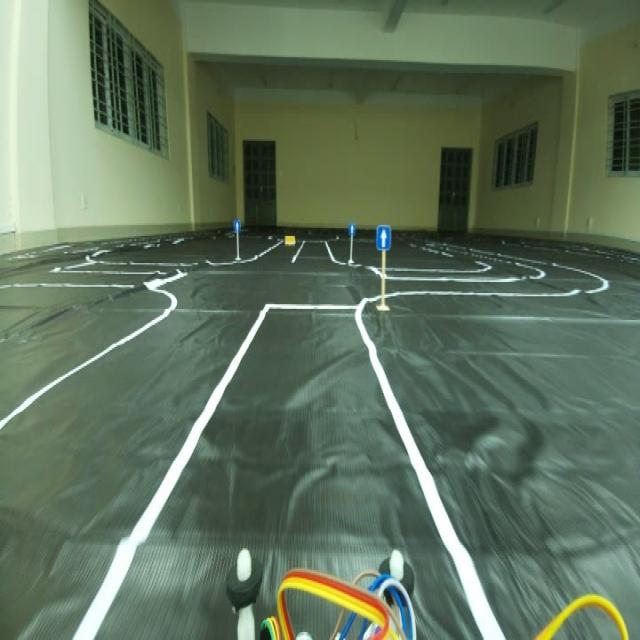onewayroad: (371, 216, 394, 256), (346, 218, 354, 240), (232, 216, 240, 234)
roadblock: (282, 224, 300, 251)
